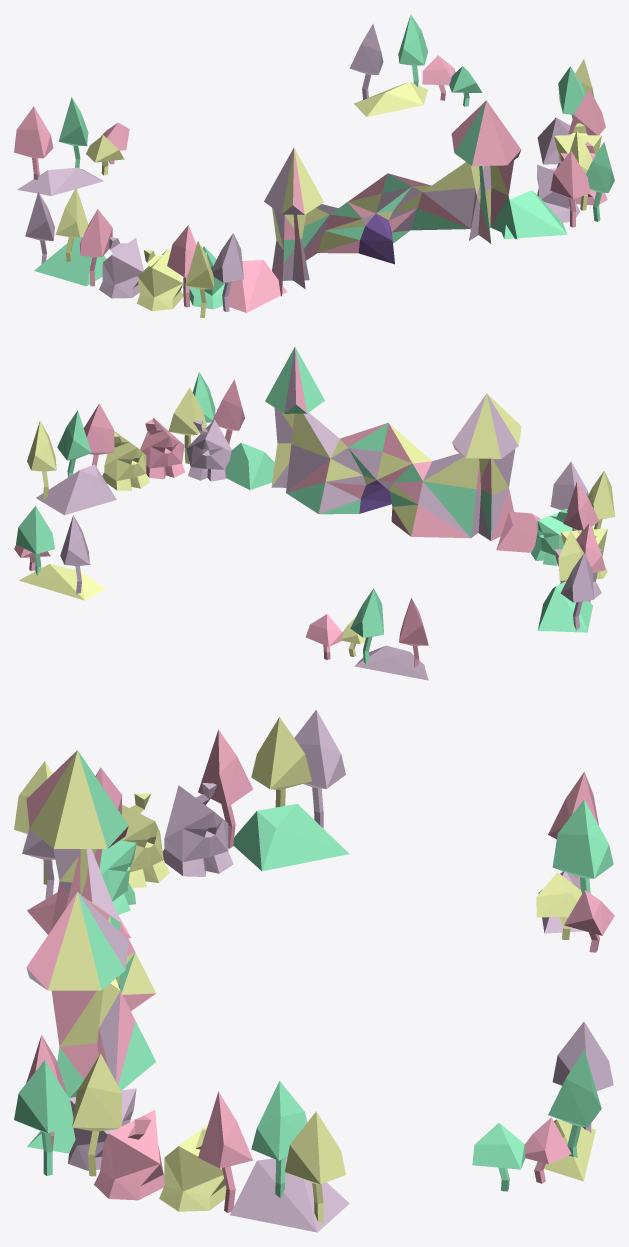
The model's file is StageDecoration.glb.
3 views of the same model, one above another, from view 1: azimuth 30°, elevation 25°; view 2: azimuth 150°, elevation 25°; view 3: azimuth 270°, elevation 25° (orthographic). The views are drawn at different scales.
Visible parts, largest first — view 1: Town; view 2: Town; view 3: Town.
Boxes of the visible parts, x1,y1,x2,y2 form: Town: (14,14,614,317); Town: (14,347,614,680); Town: (14,709,614,1232).
Size of the model in its own units: 13.87 by 3.25 by 8.41.
